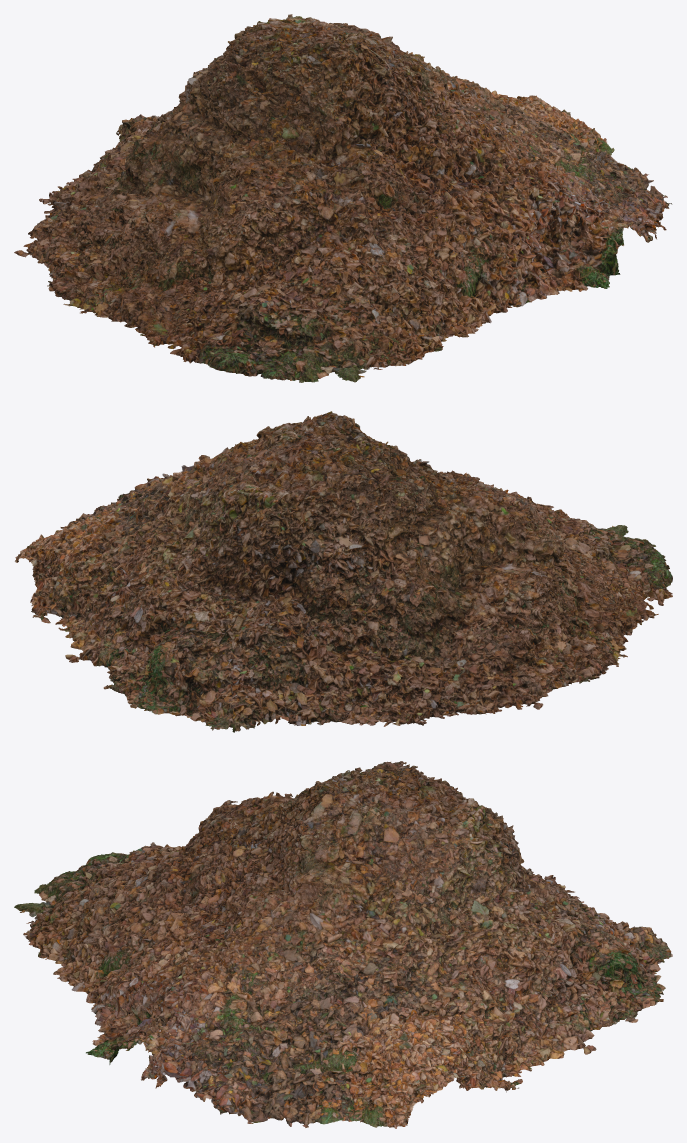
Rendered from large_pile_of_leaves.glb.
3 views of the same model, one above another, from view 1: azimuth 30°, elevation 25°; view 2: azimuth 150°, elevation 25°; view 3: azimuth 270°, elevation 25° (orthographic). The views are drawn at different scales.
Visible parts, largest first — view 1: Model; view 2: Model; view 3: Model.
Boxes of the visible parts, bbox=[...] form: Model: bbox=[14, 14, 672, 382]; Model: bbox=[15, 411, 672, 732]; Model: bbox=[14, 761, 672, 1128].
Bounding box in the file's own units: 3.13 × 1 × 3.
Materials: 3 (3 with a texture image).
